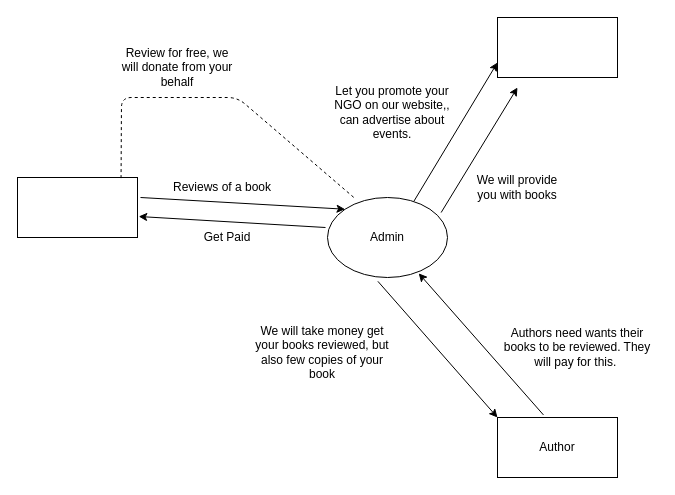
This 675x495 diagram has some shape labels left out. The shapes that lost their labels are listed below. From the top down, each one's centre as x and y in pixels, then its label:
At point (557, 47): "NGO".
At point (77, 207): "User".
